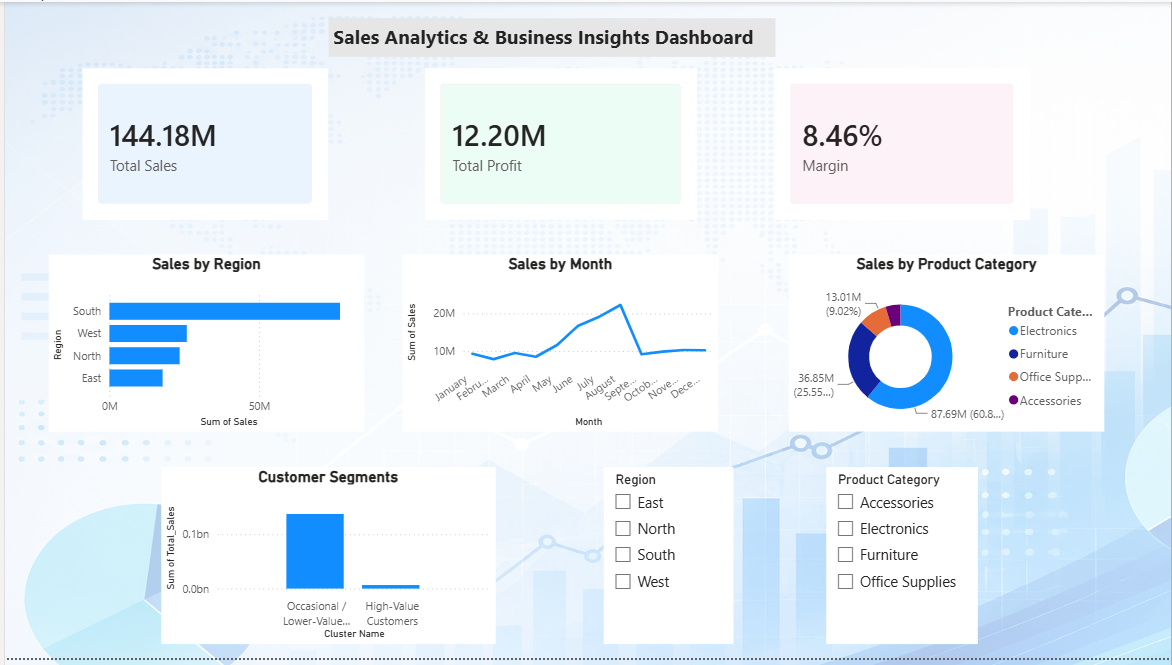

What the dashboard file says about the page in this screenshot:
{"tool":"powerbi","page":{"name":"Page 1","canvas":[1280,720],"ordinal":0},"visuals":[{"type":"cardVisual","fields":{"Data":["Sum(PowerBI_Merged_Analysis.Sales)"]},"box":[85.5,72.5,269.7,166.7],"z":0},{"type":"cardVisual","fields":{"Data":["Sum(PowerBI_Merged_Analysis.Profit)"]},"box":[461.1,72.5,298.7,166.7],"z":1000},{"type":"cardVisual","fields":{"Data":["PowerBI_Merged_Analysis.Margin"]},"box":[845.3,72.5,279.9,166],"z":2000},{"type":"clusteredBarChart","title":" Sales by Region","fields":{"Category":["PowerBI_Merged_Analysis.Region"],"Y":["Sum(PowerBI_Merged_Analysis.Sales)"]},"box":[47.8,276.9,346.5,194.3],"z":3000},{"type":"lineChart","title":"Sales by Month","fields":{"Category":["PowerBI_Merged_Analysis.OrderMonth.Variation.Date Hierarchy.Month"],"Y":["Sum(PowerBI_Merged_Analysis.Sales)"]},"box":[436.4,276.9,346.5,194.3],"z":4000},{"type":"donutChart","title":" Sales by Product Category","fields":{"Category":["PowerBI_Merged_Analysis.ProductCategory"],"Y":["Sum(PowerBI_Merged_Analysis.Sales)"]},"box":[859.8,276.9,346.5,194.3],"z":5000},{"type":"clusteredColumnChart","title":"Customer Segments","fields":{"Category":["PowerBI_Customer_Segments.Cluster Name"],"Y":["Sum(PowerBI_Customer_Segments.Total_Sales)"]},"box":[171.1,510.4,366.8,194.3],"z":6000},{"type":"slicer","fields":{"Values":["PowerBI_Merged_Analysis.Region"]},"box":[656.8,510.4,142.1,194.3],"z":7000},{"type":"slicer","fields":{"Values":["PowerBI_Merged_Analysis.ProductCategory"]},"box":[901.9,510.4,166.7,194.3],"z":8000},{"type":"textbox","box":[355.2,17.4,490.1,42],"z":9000}]}

Visuals, with their boxes in screenshot pixels (x1, y1, x2, y2), scaled from the page's 1280x720 canvas onto the 1172x665 screenshot:
cardVisual - Sum(PowerBI_Merged_Analysis.Sales): l=78, t=67, r=325, b=221
cardVisual - Sum(PowerBI_Merged_Analysis.Profit): l=422, t=67, r=696, b=221
cardVisual - PowerBI_Merged_Analysis.Margin: l=774, t=67, r=1030, b=220
" Sales by Region" clusteredBarChart: l=44, t=256, r=361, b=435
"Sales by Month" lineChart: l=400, t=256, r=717, b=435
" Sales by Product Category" donutChart: l=787, t=256, r=1105, b=435
"Customer Segments" clusteredColumnChart: l=157, t=471, r=493, b=651
slicer - PowerBI_Merged_Analysis.Region: l=601, t=471, r=731, b=651
slicer - PowerBI_Merged_Analysis.ProductCategory: l=826, t=471, r=978, b=651
textbox: l=325, t=16, r=774, b=55
